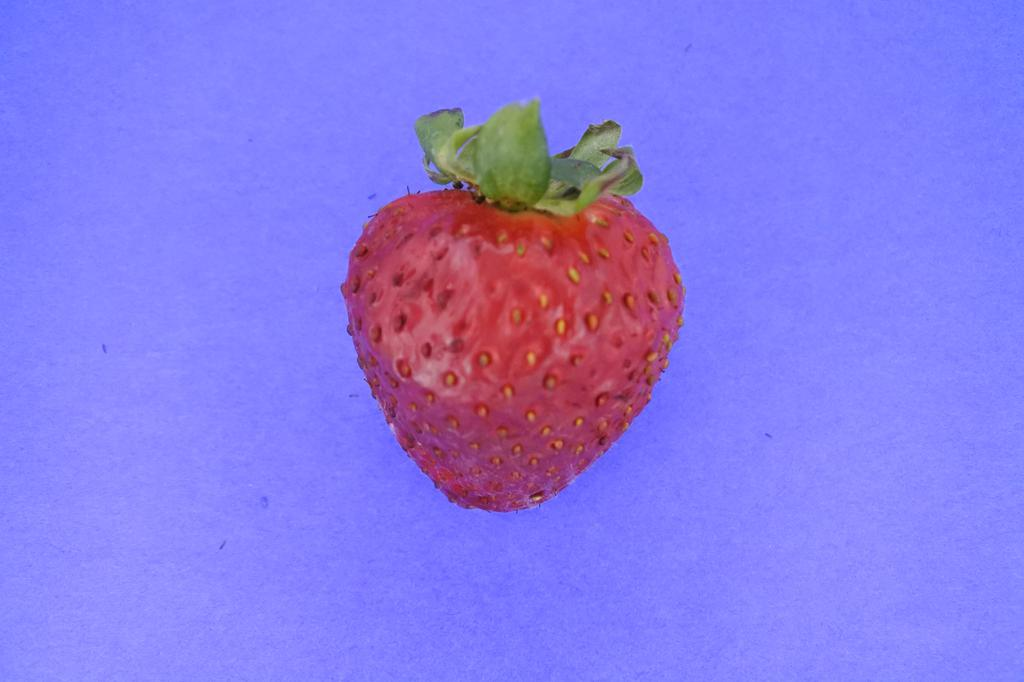red strawberry: (341, 95, 688, 512)
